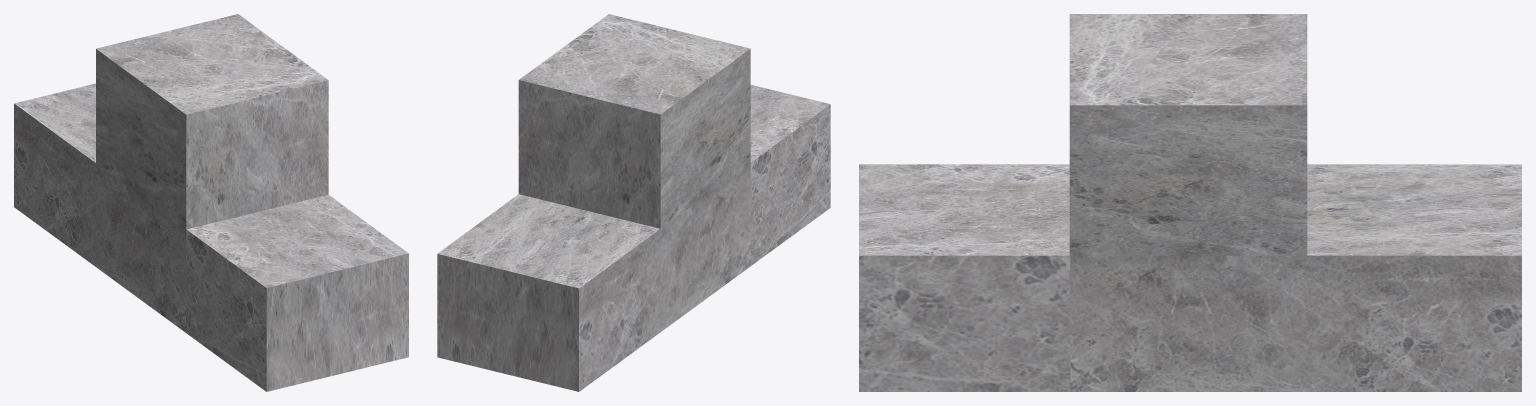
File: Plat4.fbx
3 views of the same model, side by side, from view 1: azimuth 30°, elevation 25°; view 2: azimuth 150°, elevation 25°; view 3: azimuth 270°, elevation 25° (orthographic). The views are drawn at different scales.
Parts seen in each view (by area): view 1: plat4; view 2: plat4; view 3: plat4.
Boxes of the visible parts, box(x1,y1,x2,y2) form: plat4: box(14, 14, 408, 391); plat4: box(437, 14, 830, 391); plat4: box(859, 14, 1521, 391).
Bounding box in the file's own units: 0.0134 × 0.0197 × 0.0413.
1 material, 1 textured.
